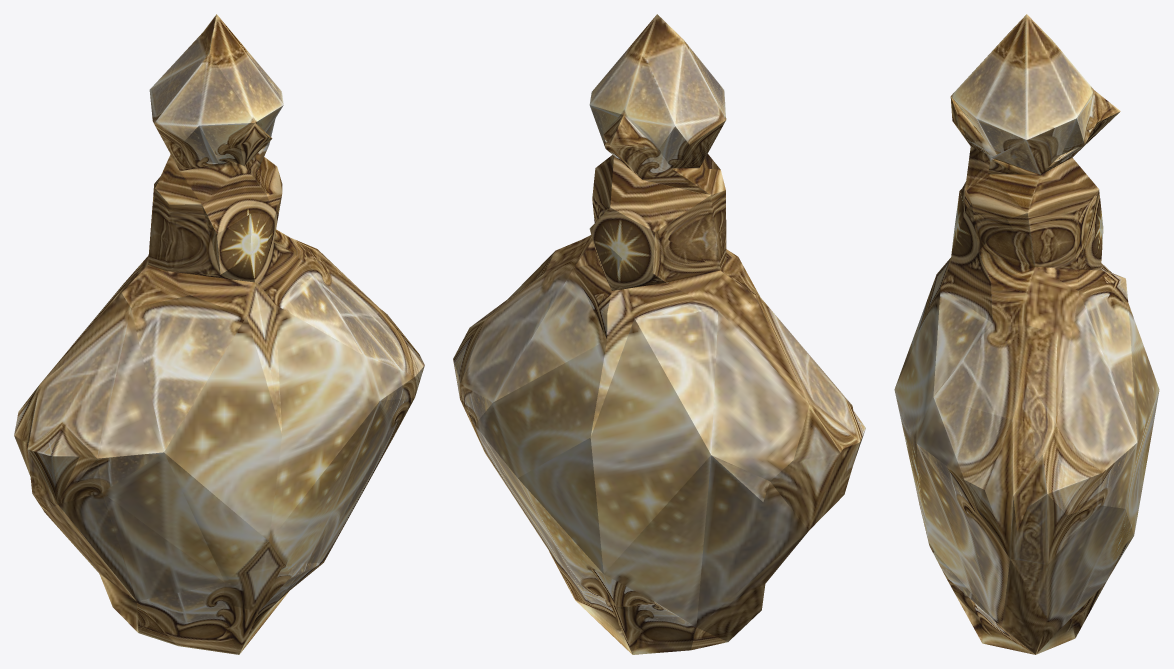
The model's file is SM_Flask_Light.fbx.
The picture shows the model from 3 angles, left to right: view 1: azimuth 30°, elevation 25°; view 2: azimuth 150°, elevation 25°; view 3: azimuth 270°, elevation 25°; orthographic projection.
Visible parts, largest first — view 1: SM_Flask_Light; view 2: SM_Flask_Light; view 3: SM_Flask_Light.
Boxes of the visible parts, x1,y1,x2,y2 form: SM_Flask_Light: [14, 14, 424, 654]; SM_Flask_Light: [453, 14, 865, 654]; SM_Flask_Light: [894, 14, 1159, 654].
Bounding box in the file's own units: 26.22 × 40 × 15.27.
